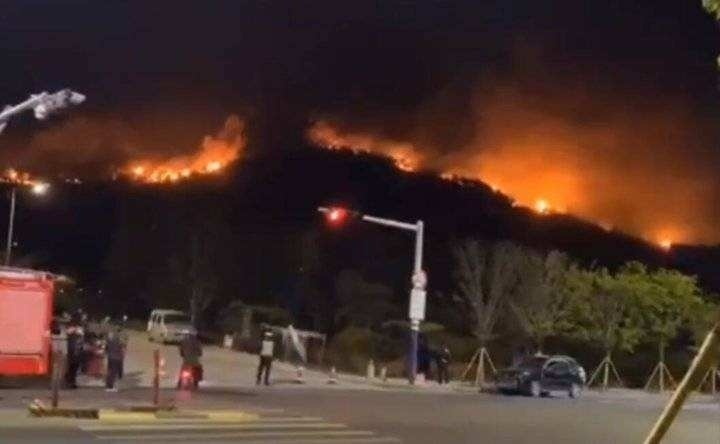fire: (123, 124, 245, 182), (0, 164, 48, 191), (528, 190, 557, 214)
